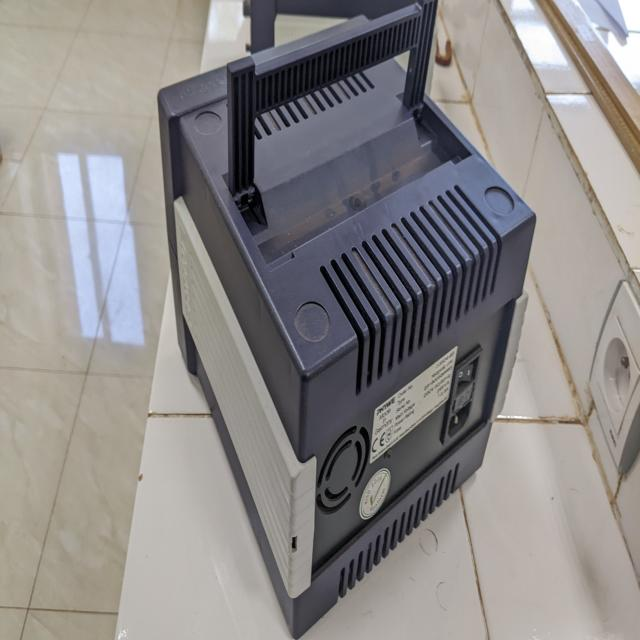Netzgerat Universal Power Supply: (145, 0, 547, 633)
